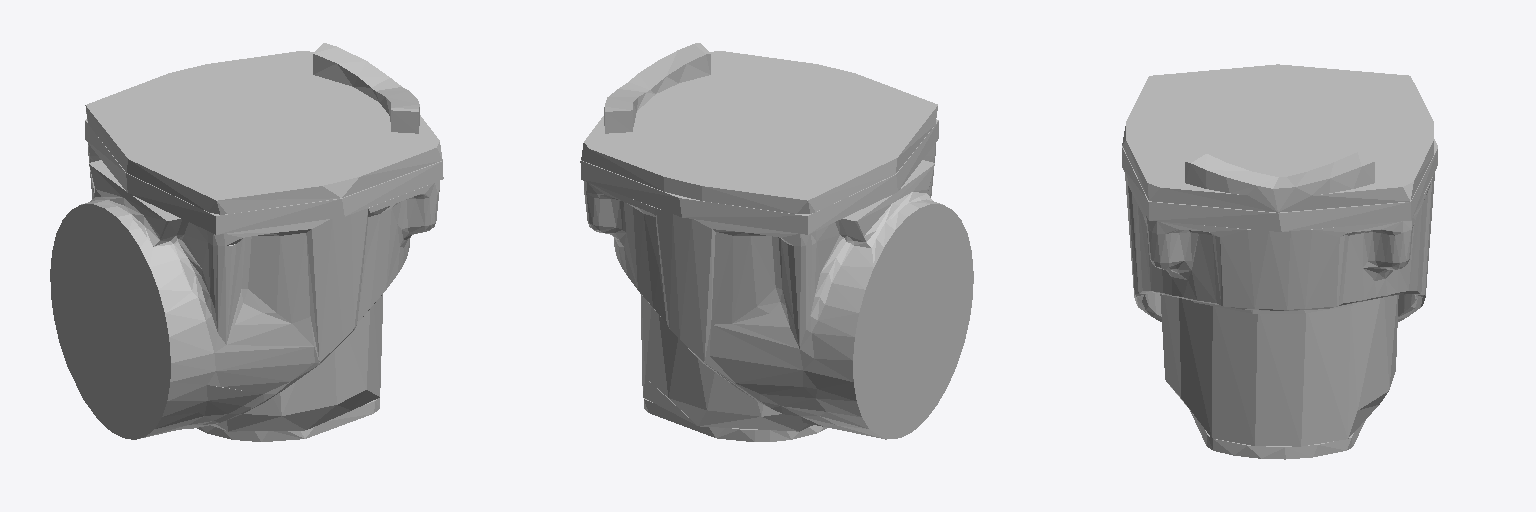
The model's file is fl_hip_visuals_mesh_0.obj.
3 views of the same model, side by side, from view 1: azimuth 30°, elevation 25°; view 2: azimuth 150°, elevation 25°; view 3: azimuth 270°, elevation 25° (orthographic).
Size of the model in its own units: 0.1013 by 0.1003 by 0.0956.